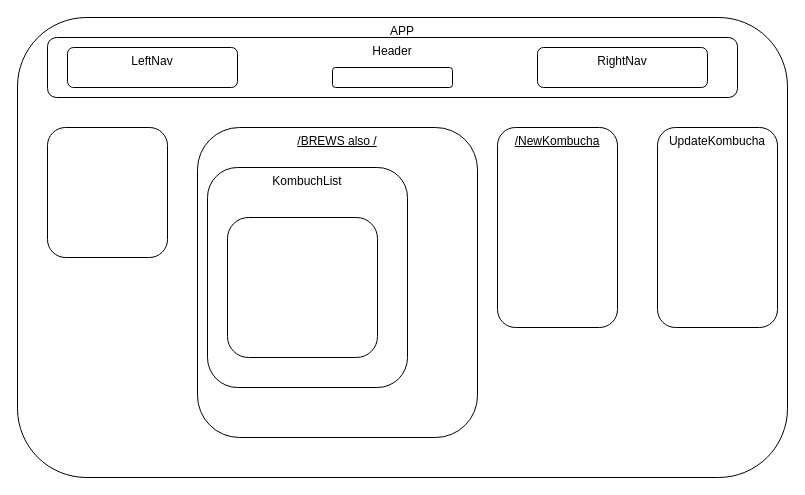
Some shapes in this 805 by 495 pixel diagram are drawn without their labels. The centre of each missing label's shape, as x and y in pixels:
"Kombucha" goes at point (302, 287).
"Logo" goes at point (392, 77).
"nonExistant path ERROR 404" goes at point (107, 192).
